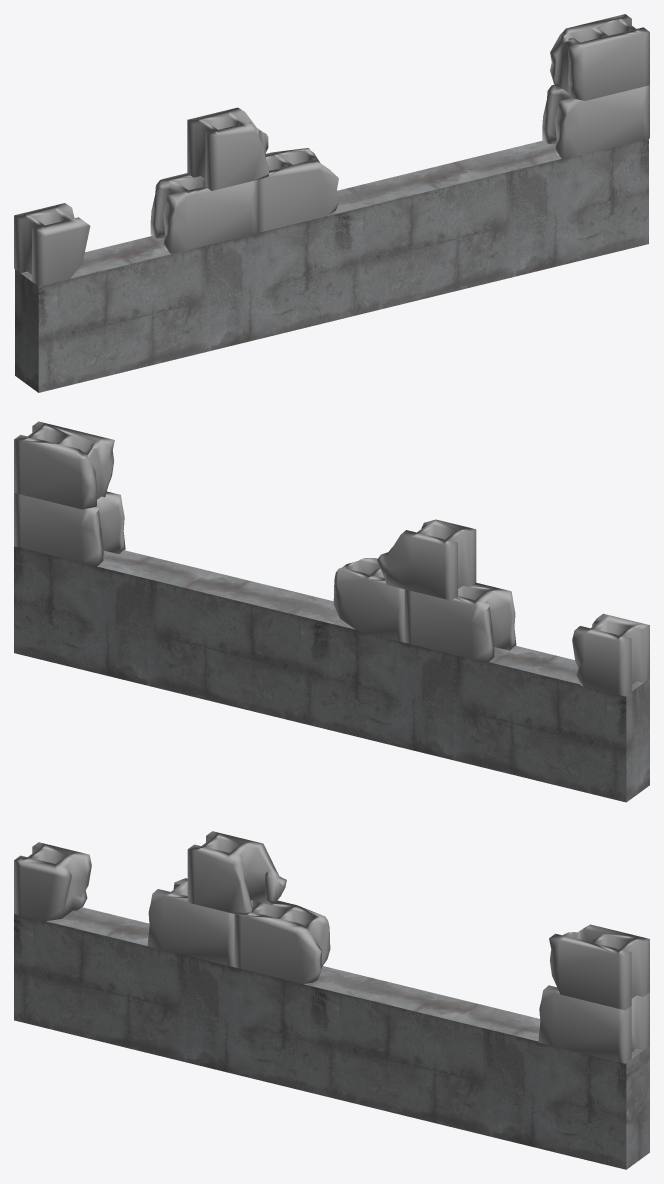
The model's file is wall_1window_01_Broken_04.fbx.
The picture shows the model from 3 angles, top to bottom: view 1: azimuth 30°, elevation 25°; view 2: azimuth 150°, elevation 25°; view 3: azimuth 330°, elevation 25°; orthographic projection.
Parts seen in each view (by area): view 1: wall_1window_01_Broken_04; view 2: wall_1window_01_Broken_04; view 3: wall_1window_01_Broken_04.
Part boxes in pixels (x1,y1,x2,y2): wall_1window_01_Broken_04: [14, 14, 649, 392]; wall_1window_01_Broken_04: [14, 421, 649, 802]; wall_1window_01_Broken_04: [14, 831, 649, 1169].
Size of the model in its own units: 300 by 99.98 by 21.87.
Materials: 2 (1 with a texture image).
